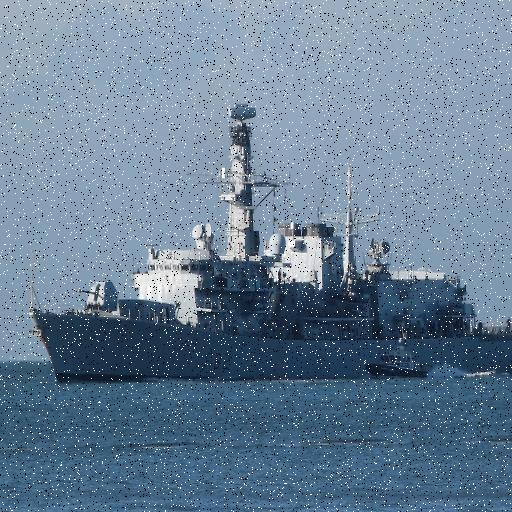Fragata: (29, 99, 512, 384)
